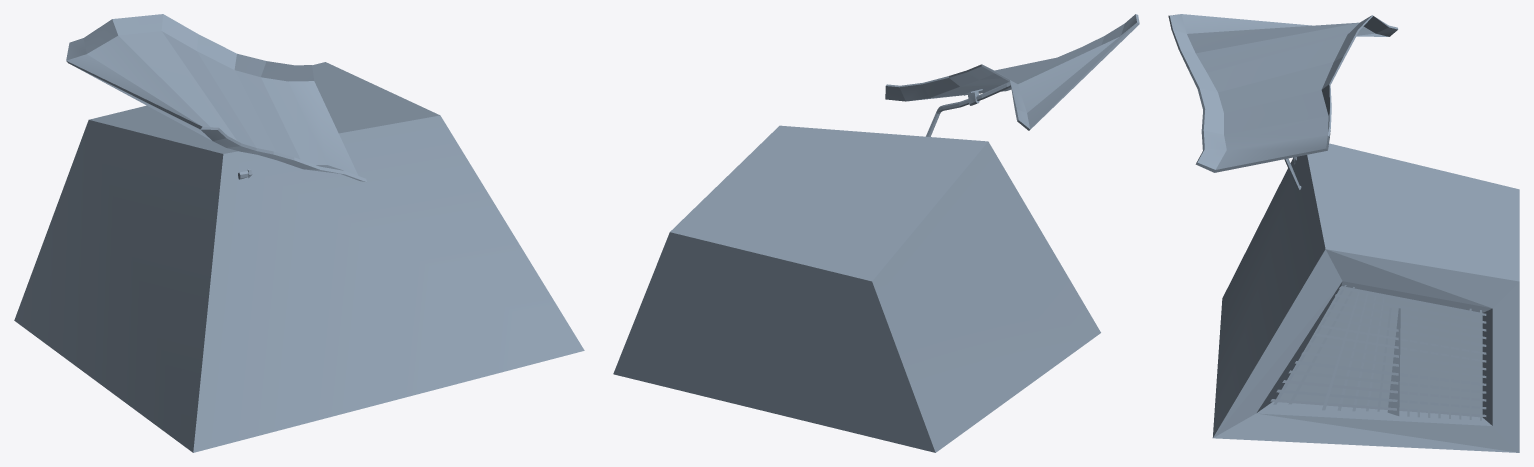
File: Track_full_001_track_001.fbx
The picture shows the model from 3 angles, left to right: view 1: azimuth 30°, elevation 25°; view 2: azimuth 150°, elevation 25°; view 3: azimuth 270°, elevation 25°; orthographic projection. The views are drawn at different scales.
Visible parts, largest first — view 1: Track_full.001.track.001; view 2: Track_full.001.track.001; view 3: Track_full.001.track.001.
Part boxes in pixels (left/top/right/bottom): Track_full.001.track.001: left=14, top=14, right=584, bottom=452; Track_full.001.track.001: left=613, top=14, right=1139, bottom=452; Track_full.001.track.001: left=1168, top=14, right=1519, bottom=452.
Size of the model in its own units: 1.45 by 1.25 by 1.36.
